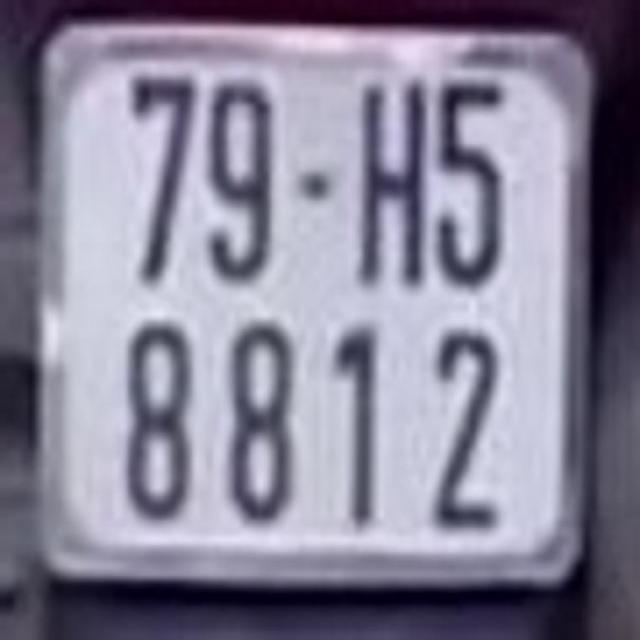1: (336, 333, 381, 528)
2: (439, 322, 499, 532)
5: (440, 80, 507, 290)
7: (132, 72, 202, 286)
8: (234, 324, 297, 516), (124, 321, 184, 513)
9: (212, 72, 274, 299)
H: (359, 77, 427, 286)
